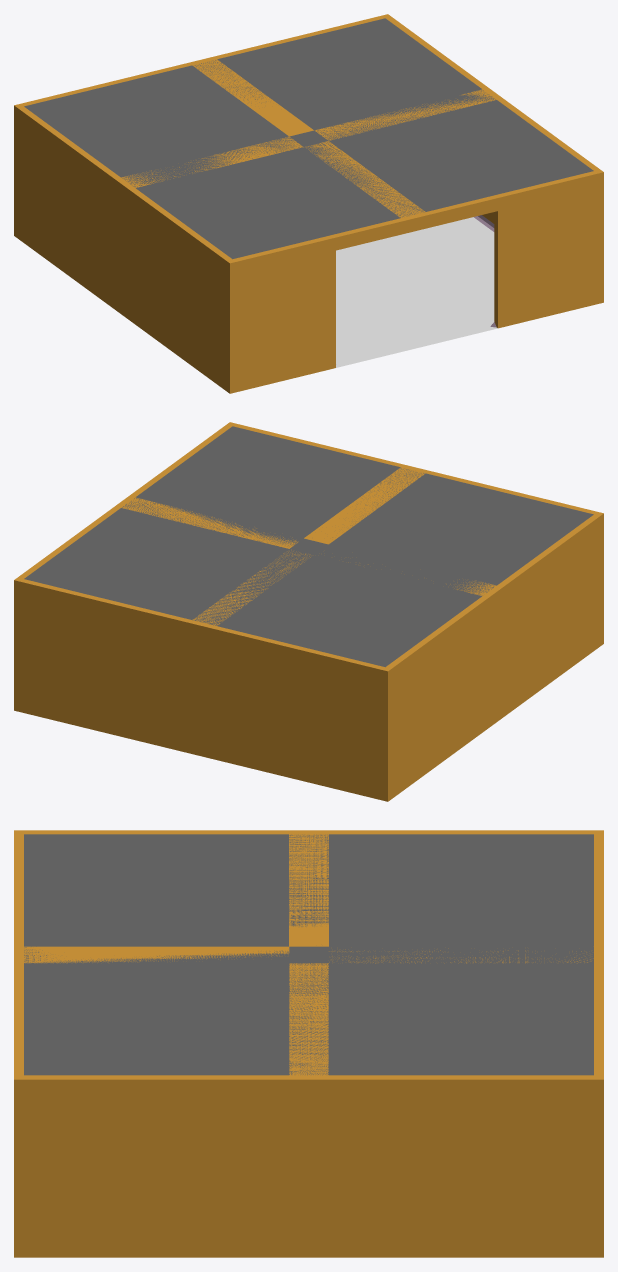
The model's file is bigRoom.fbx.
The picture shows the model from 3 angles, top to bottom: view 1: azimuth 30°, elevation 25°; view 2: azimuth 150°, elevation 25°; view 3: azimuth 270°, elevation 25°; orthographic projection. The views are drawn at different scales.
Parts seen in each view (by area): view 1: Plane; view 2: Plane; view 3: Plane.
Part boxes in pixels (x1,y1,x2,y2): Plane: (14,14,603,393); Plane: (14,422,603,801); Plane: (14,830,603,1257).
Size of the model in its own units: 15 by 5 by 15.
